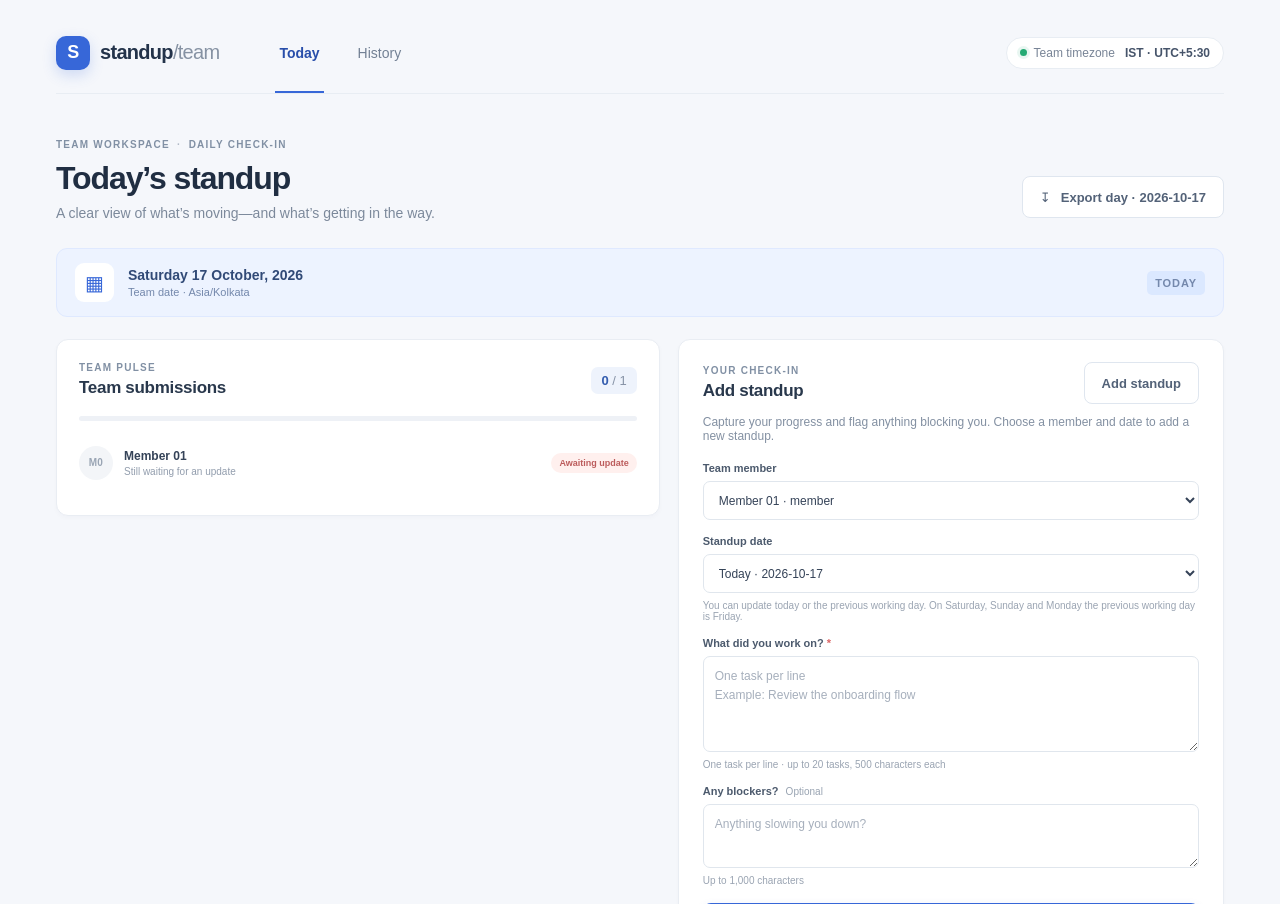
it: standup UI › exports an arbitrary History date and allows filtering retained inactive members
This screenshot has width=1280, height=904.
Expected: the option "Retired Synthetic Member" is not shown
Click the button "History".
click(379, 52)  # box [354,12,405,93]
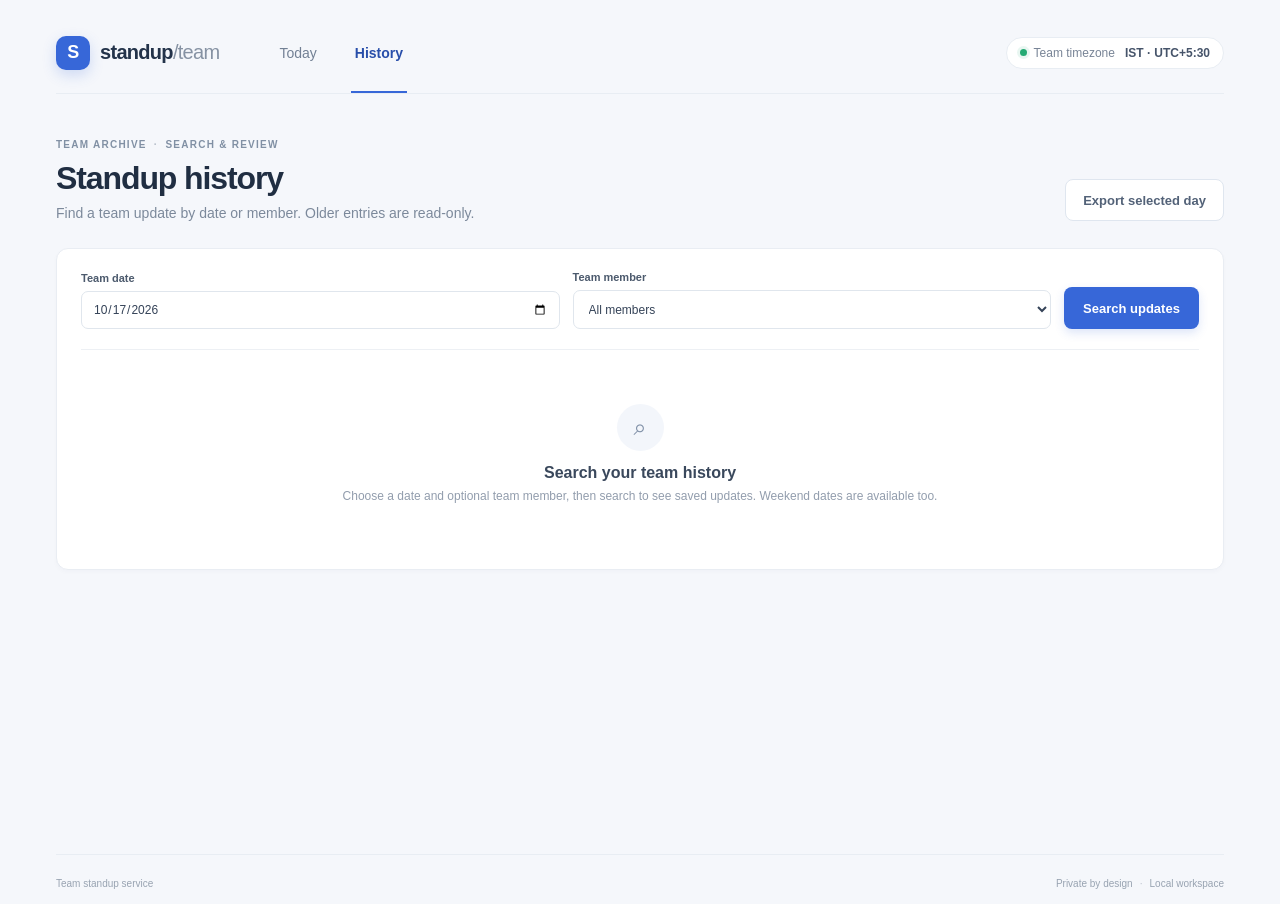
Type "2025-01-01" into the date field labelled "Team date".
click(320, 310); type("2025-01-01")  # box [81,291,560,329]
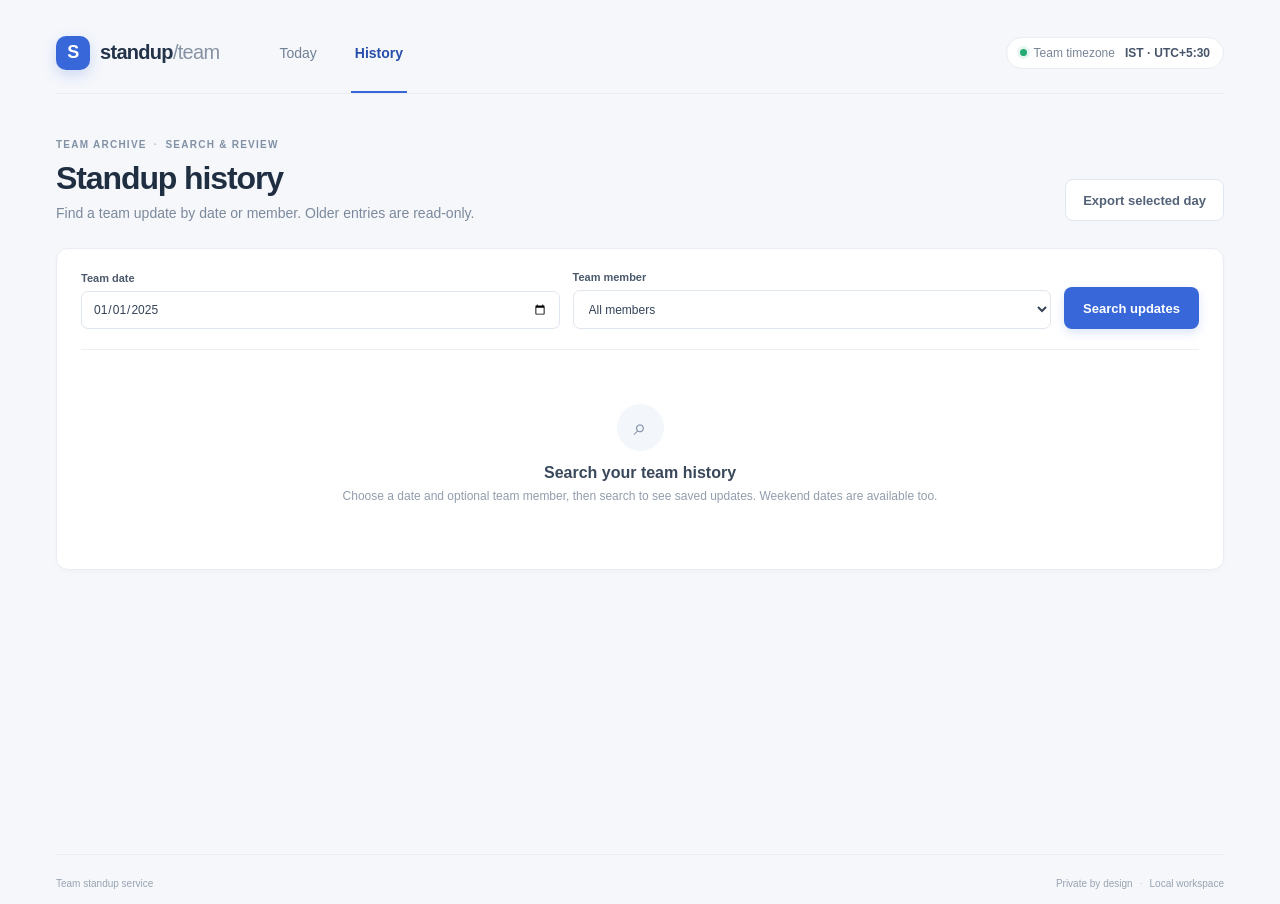
Select "Retired Synthetic Member · member · inactive" in the dropdown labelled "Team member" at point(812, 310), box [572,290,1051,329]
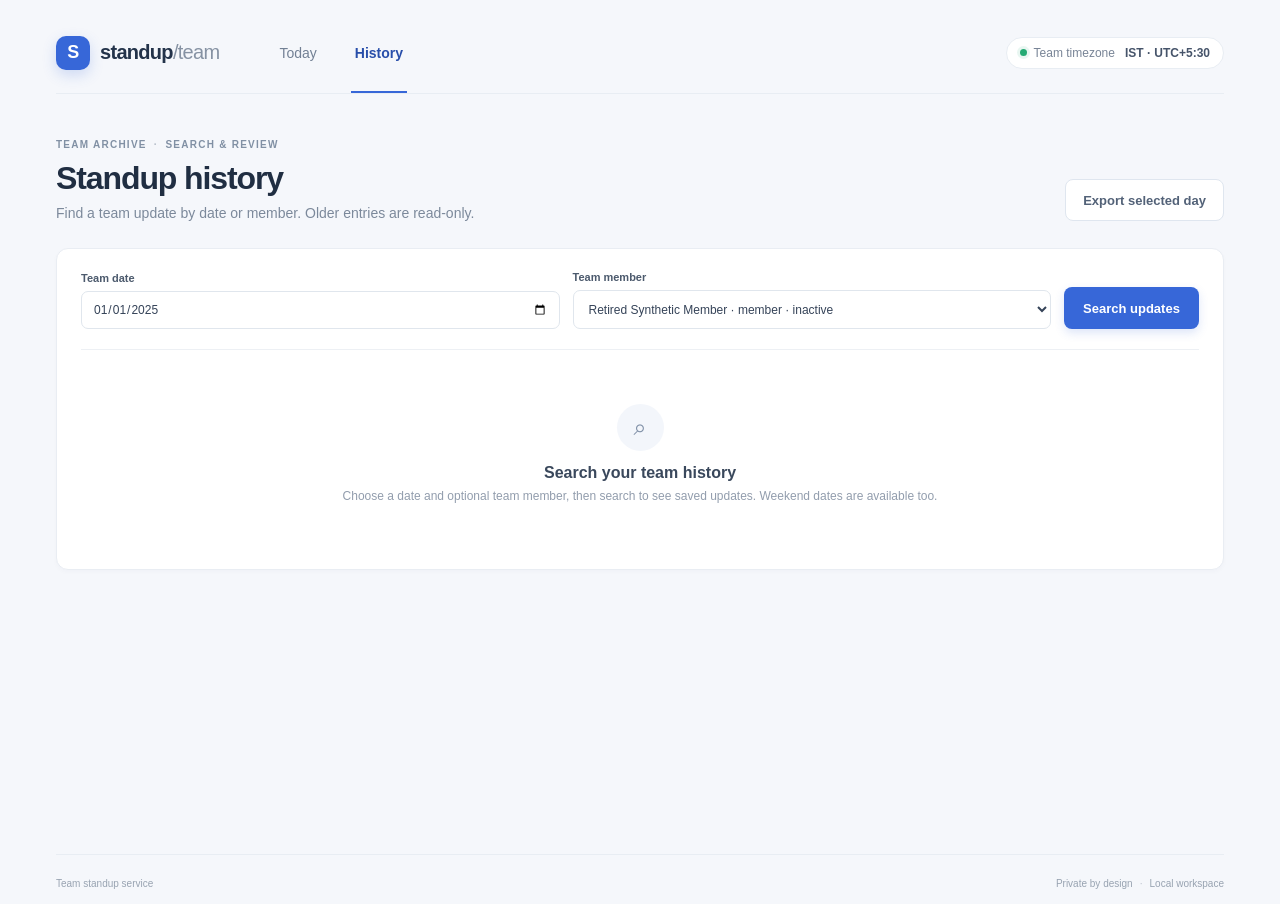
Click the button "Search updates".
click(1132, 308)  # box [1064,287,1199,329]
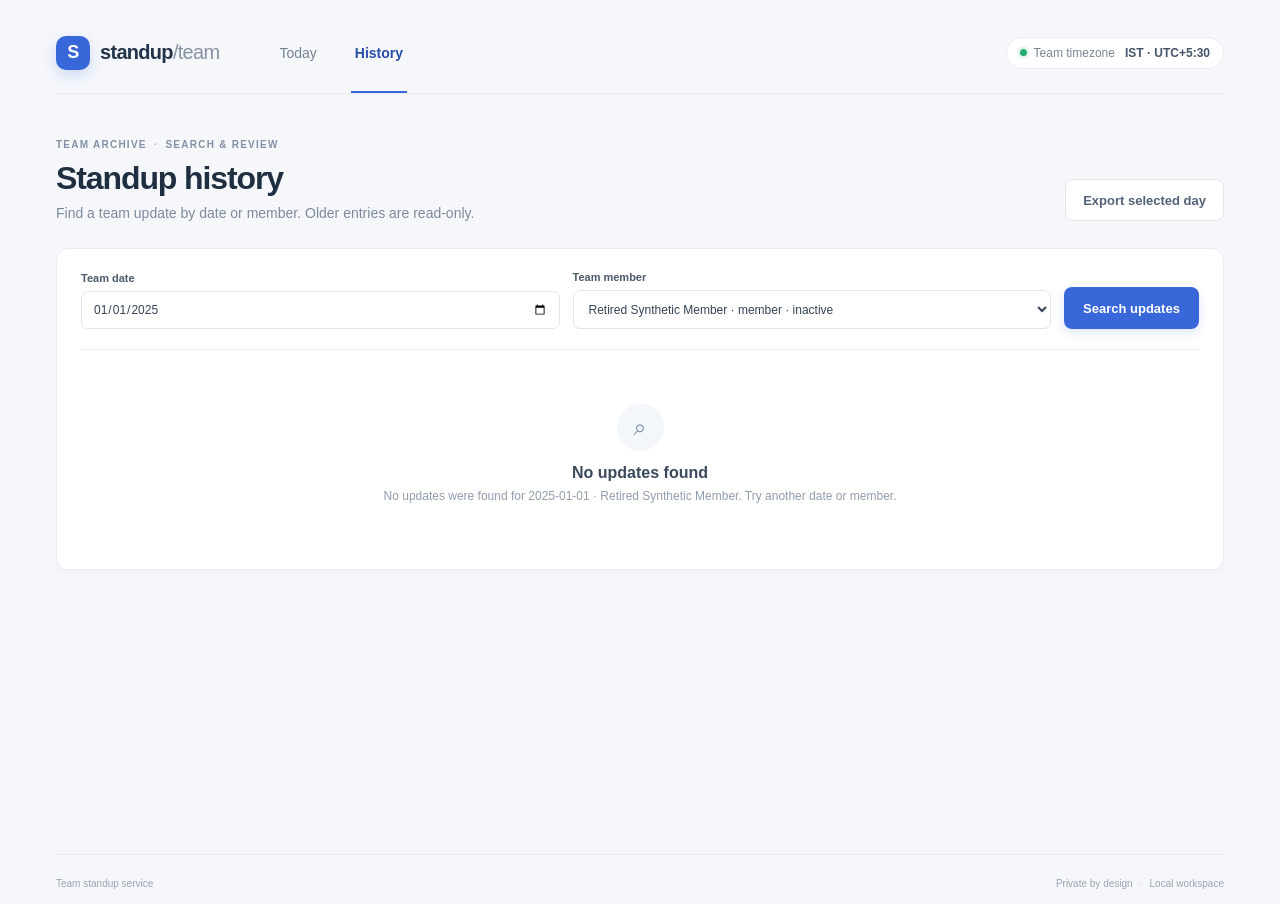
Result: the heading "No updates found" is shown at [572,464,708,481]
Click the button "Export selected day".
click(1145, 200)  # box [1065,179,1224,221]
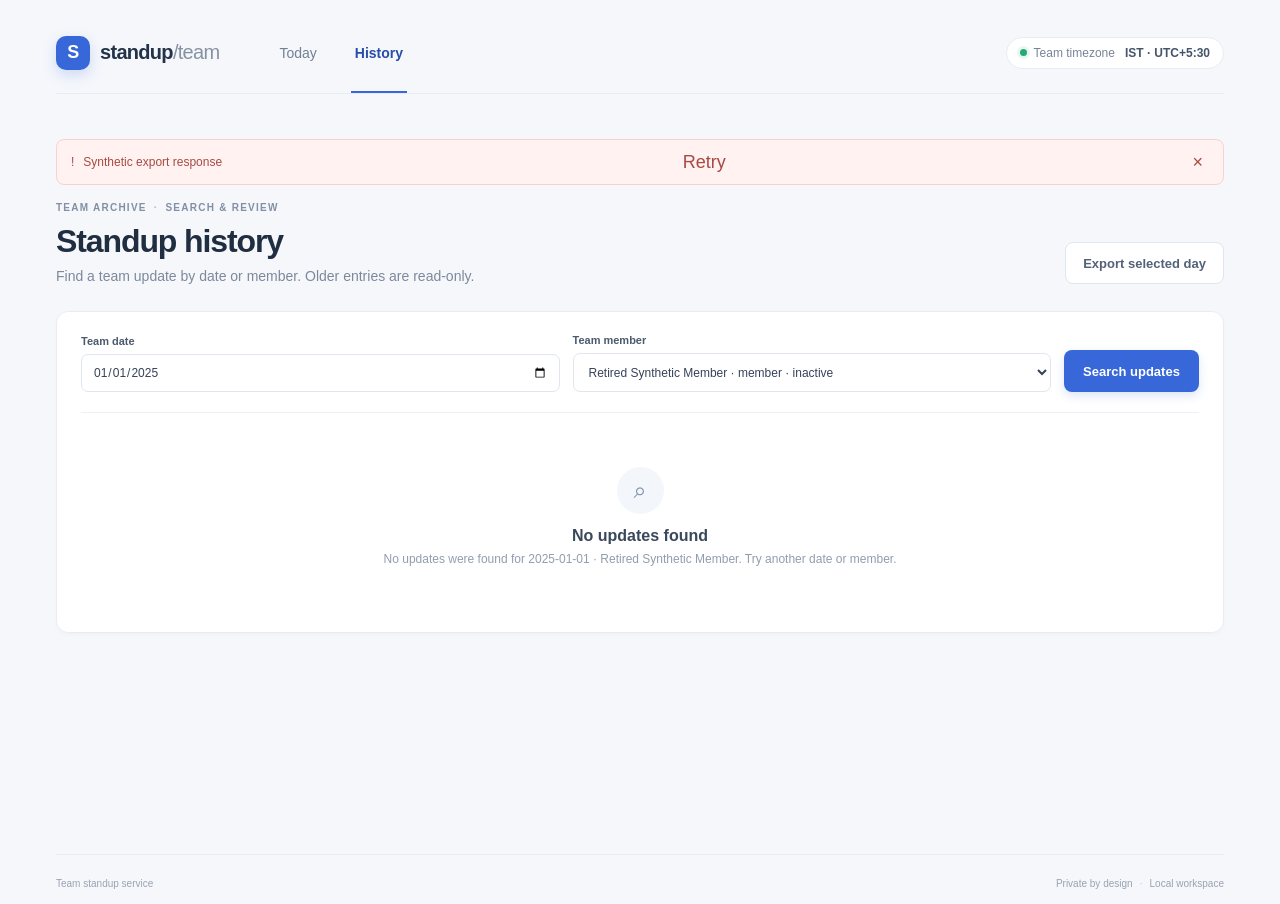
Result: the message "! Synthetic export response Retry ×" is shown at [56,139,1224,185]
